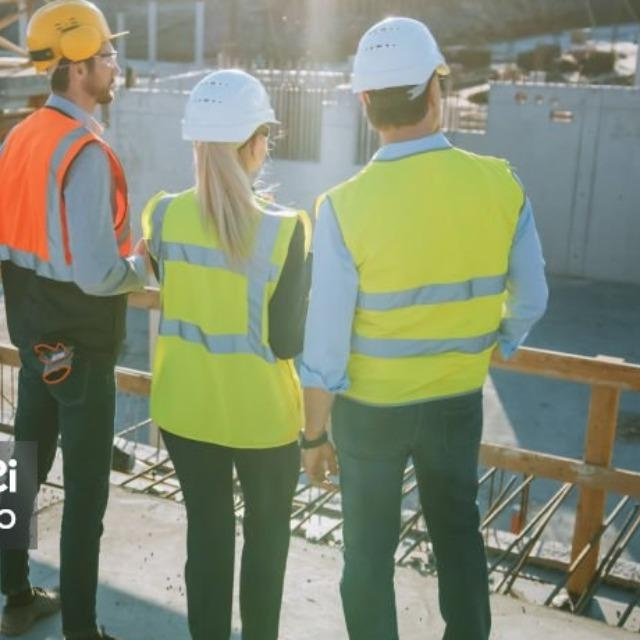Con_Casco: (348, 17, 449, 142), (179, 70, 281, 180), (25, 0, 128, 103)
Con_Chaleco: (314, 153, 520, 408), (141, 186, 311, 446), (1, 110, 135, 358)
